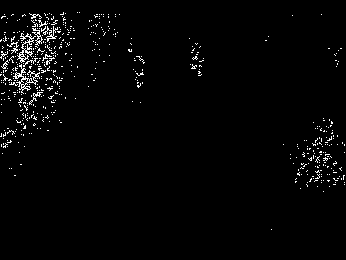person: (133, 54, 144, 89)
